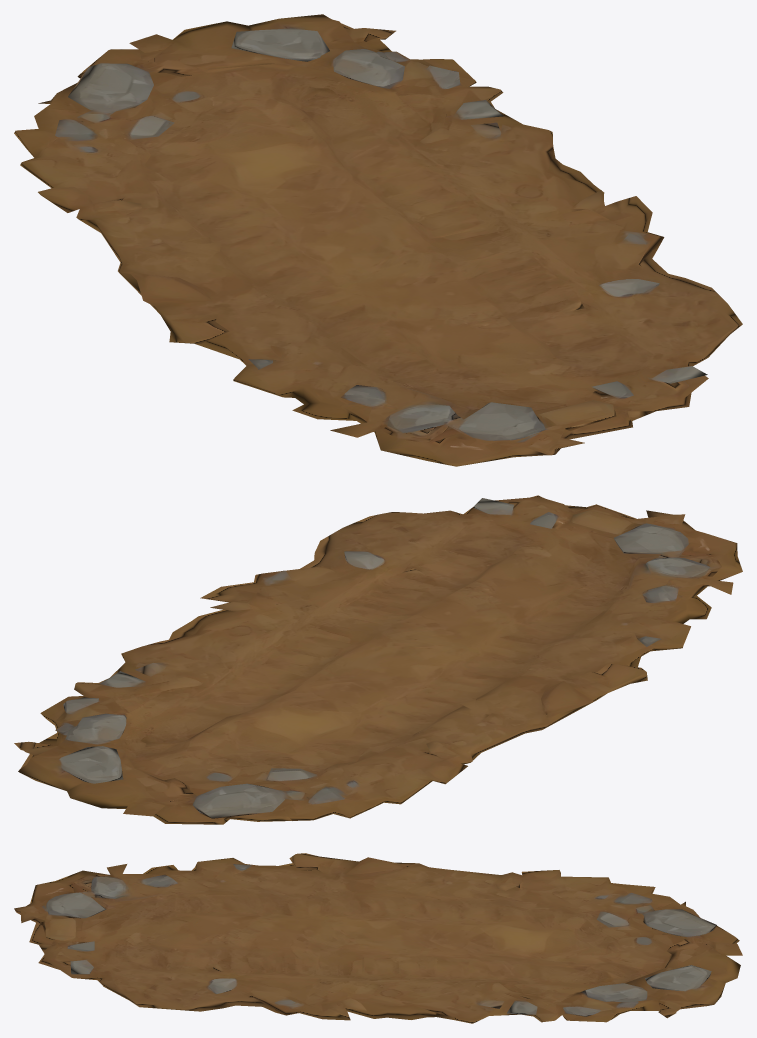
Rendered from tripo_muddy_wheel_ruts.glb.
The picture shows the model from 3 angles, top to bottom: view 1: azimuth 30°, elevation 25°; view 2: azimuth 150°, elevation 25°; view 3: azimuth 270°, elevation 25°; orthographic projection. The views are drawn at different scales.
Visible parts, largest first — view 1: muddy_wheel_ruts; view 2: muddy_wheel_ruts; view 3: muddy_wheel_ruts.
Boxes of the visible parts, x1,y1,x2,y2 form: muddy_wheel_ruts: (14,14,742,466); muddy_wheel_ruts: (14,495,742,824); muddy_wheel_ruts: (14,853,742,1023).
Bounding box in the file's own units: 2.2 × 0.05 × 4.
1 material, 1 textured.
